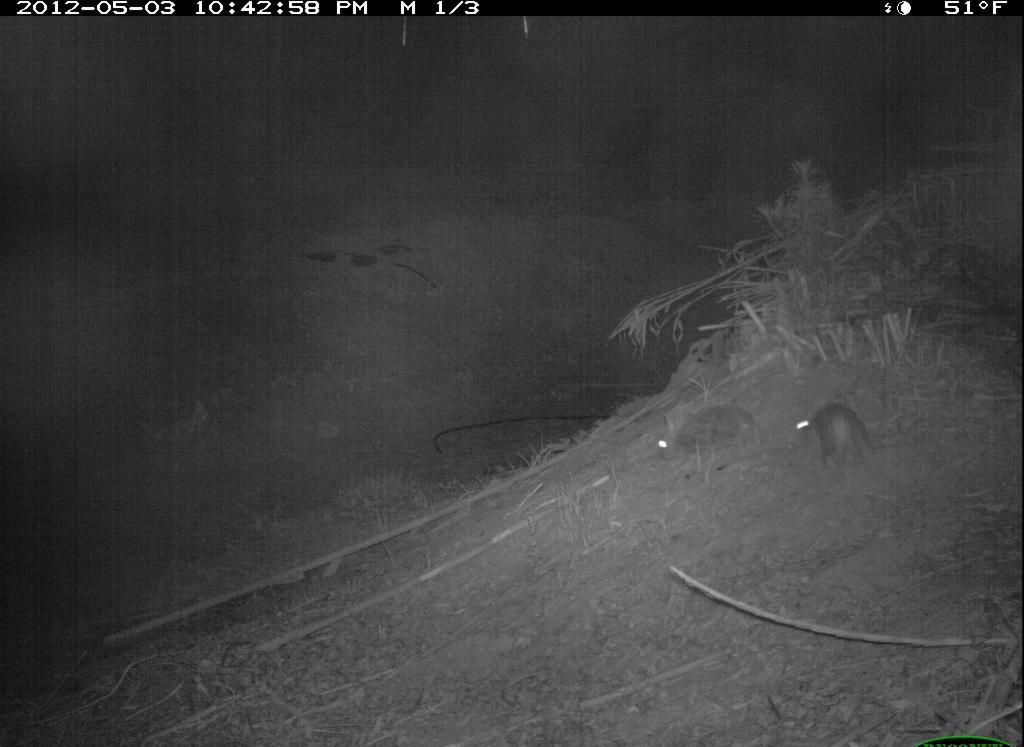rabbit: (655, 395, 766, 473), (793, 392, 890, 472)
